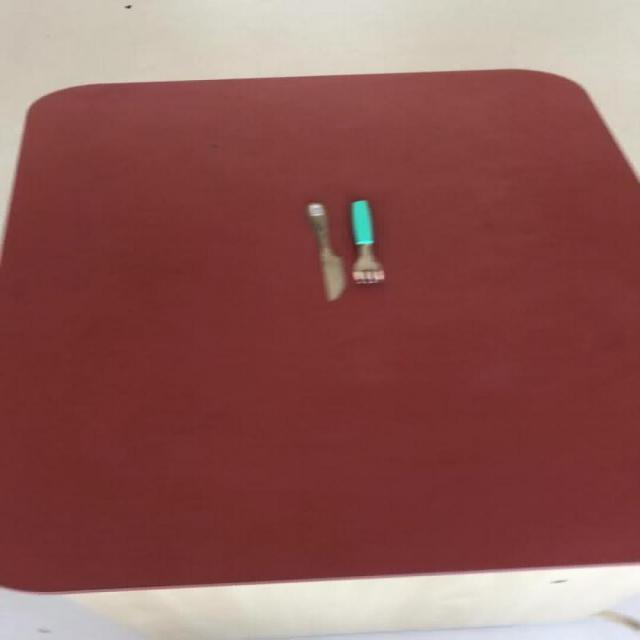Fork: (348, 198, 384, 284)
Knife: (304, 202, 345, 301)
